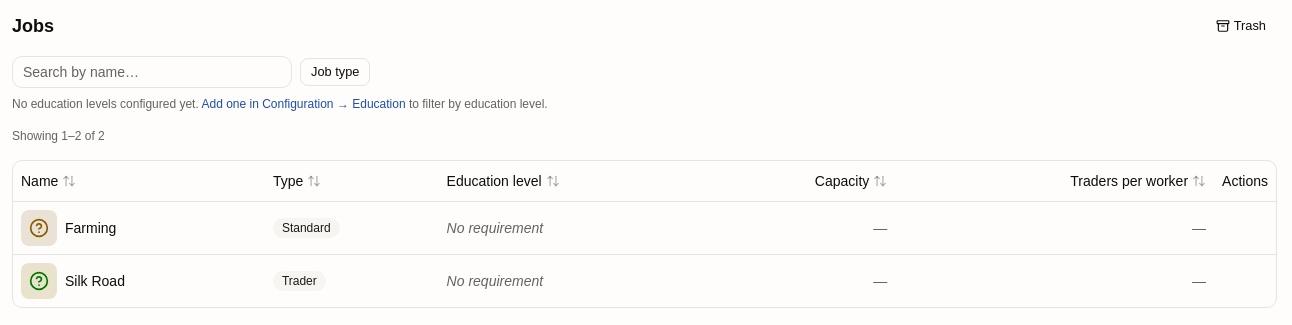
Test case: JobsConfigPanel › filters jobs by type
Expected: the text "Farming" is shown, [65,218,116,238]
Expected: the text "Silk Road" is shown, [65,270,125,290]
Click the button "Job type".
click(335, 72)  # box [300,58,370,86]
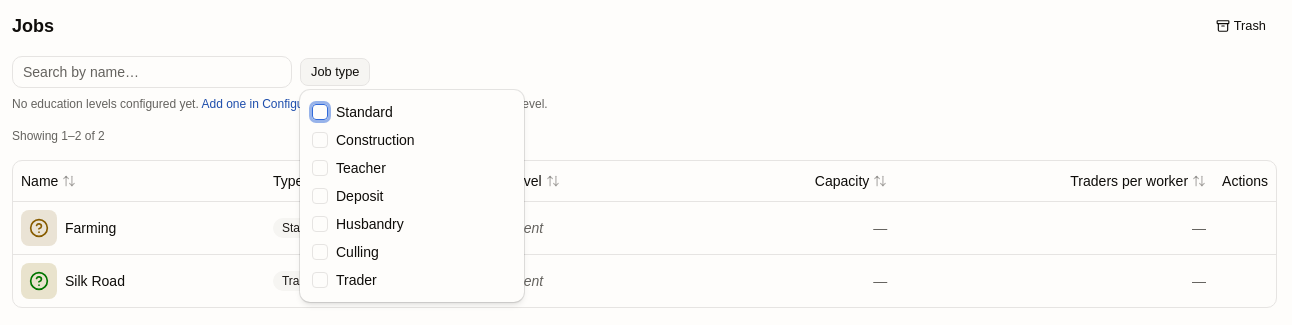
Click the 1st checkbox named "Standard".
click(320, 112)  # box [312,104,328,120]
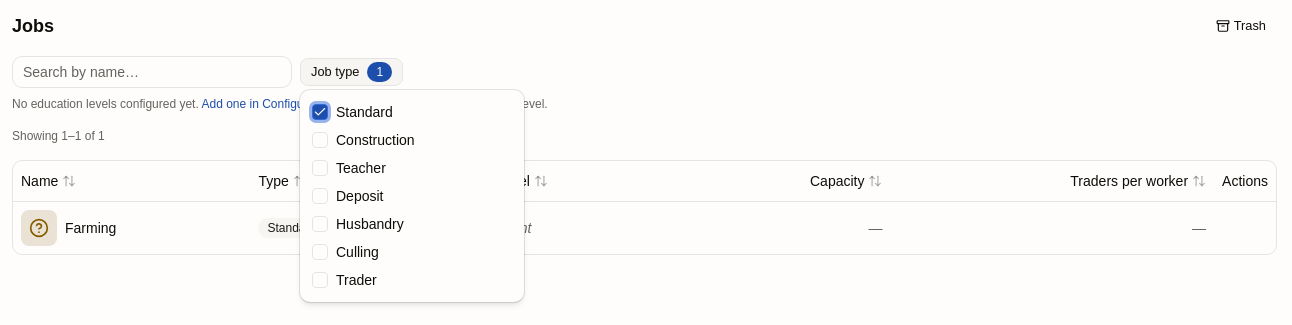
Expected: the text "Farming" is shown, [65,218,116,238]
Now the text "Silk Road" is gone
